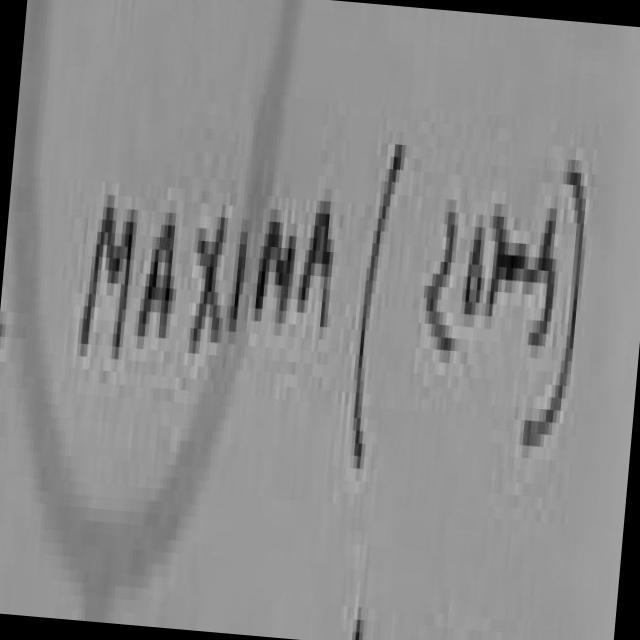0: (453, 187, 495, 346)
2: (410, 172, 471, 399)
A: (130, 163, 194, 385), (292, 147, 350, 386)
I: (222, 180, 258, 379)
M: (69, 149, 147, 389), (240, 151, 308, 365)
X: (177, 158, 244, 388)
g: (525, 191, 566, 369)
m: (480, 181, 540, 346)
